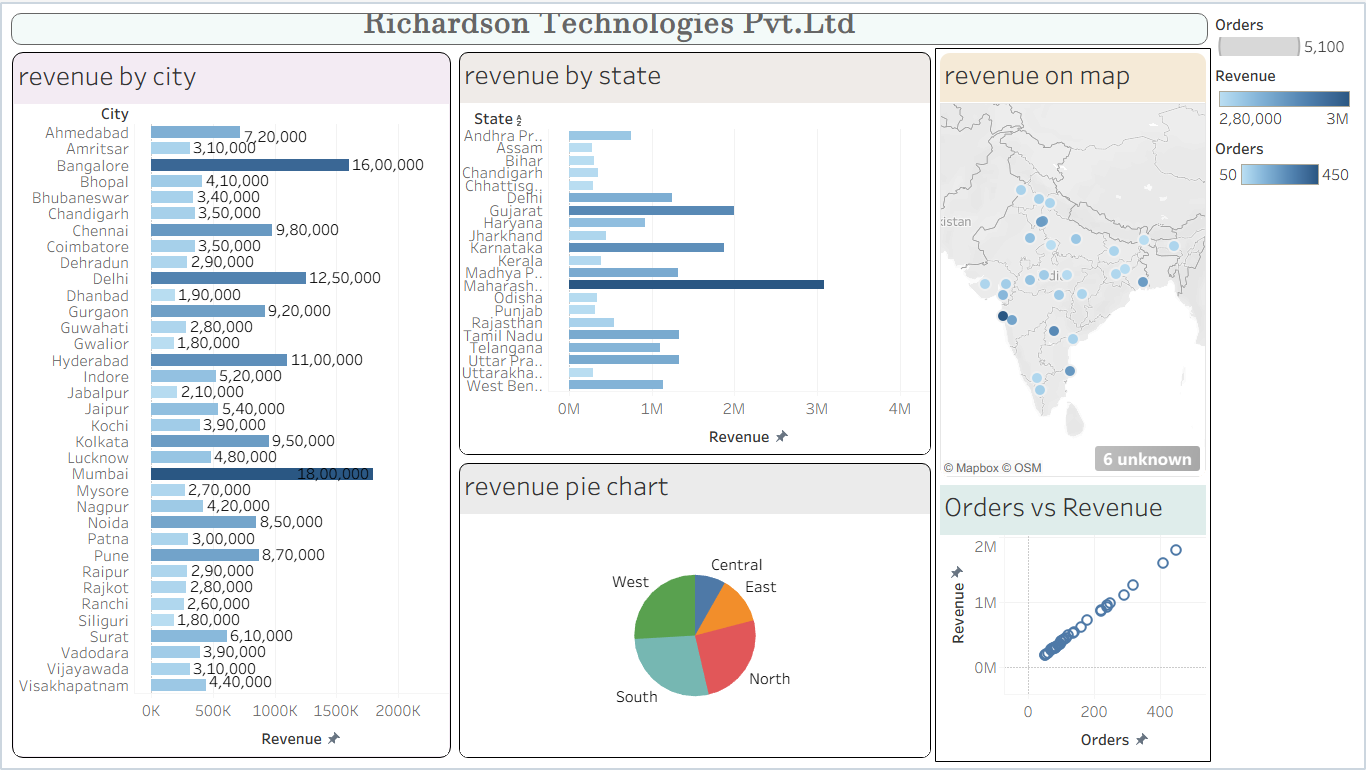

This screenshot's page, from the dashboard's own definition file:
{"tool":"tableau","page":{"name":"Dashboard 1","canvas":[1366,768],"ordinal":0},"visuals":[{"type":"text","box":[8,8,1203,37.8]},{"type":"legend","title":"revenue pie chart","param":"[federated.1m2jier0zwuij61940g330dnvqdq].[sum:Orders:qk]","box":[1211,8,147,51]},{"type":"worksheet","title":"revenue by city","mark":"Automatic","rows":["City"],"cols":["Revenue"],"box":[8,45.8,447,714.1]},{"type":"worksheet","title":"revenue by state","mark":"Automatic","rows":["State"],"cols":["Revenue"],"box":[455,45.8,480,411]},{"type":"worksheet","title":"revenue on map","mark":"Automatic","box":[936,46.8,274,432]},{"type":"legend","title":"revenue by state","param":"[federated.1m2jier0zwuij61940g330dnvqdq].[sum:Revenue:qk]","box":[1211,59,147,73]},{"type":"legend","title":"revenue on map","param":"[federated.1m2jier0zwuij61940g330dnvqdq].[sum:Orders:qk]","box":[1211,132,147,73]},{"type":"worksheet","title":"revenue pie chart","mark":"Pie","box":[455,456.8,480,303.1]},{"type":"worksheet","title":"Orders vs Revenue","mark":"Automatic","rows":["Revenue"],"cols":["Orders"],"box":[936,478.8,274,280.2]}]}

Visuals, with their boxes in screenshot pixels (x1, y1, x2, y2), scaled from the page's 1366x768 canvas onto the 1366x770 screenshot:
text: (8,8,1211,46)
"revenue pie chart" legend: (1211,8,1358,59)
"revenue by city" worksheet: (8,46,455,762)
"revenue by state" worksheet: (455,46,935,458)
"revenue on map" worksheet: (936,47,1210,480)
"revenue by state" legend: (1211,59,1358,132)
"revenue on map" legend: (1211,132,1358,206)
"revenue pie chart" worksheet (Pie marks): (455,458,935,762)
"Orders vs Revenue" worksheet: (936,480,1210,761)
